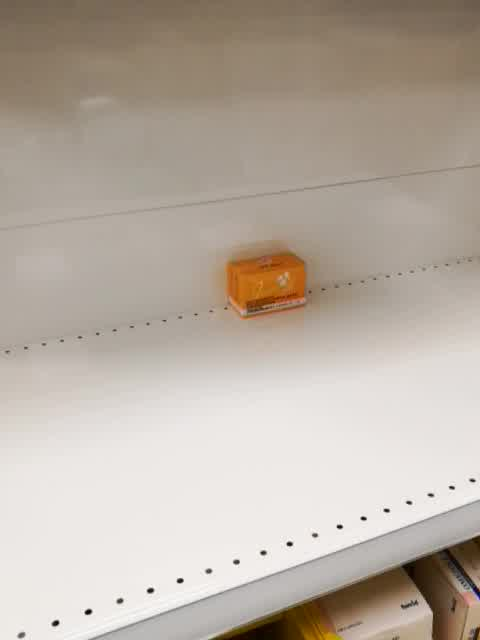jasminetea: (225, 248, 307, 321)
